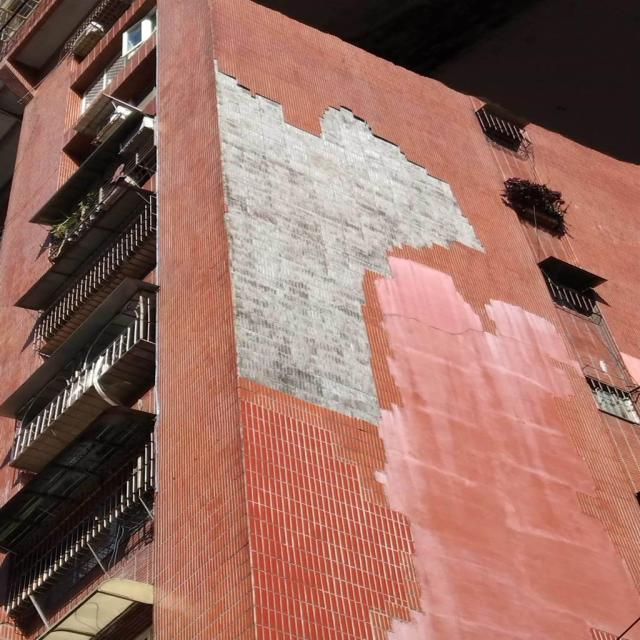tile: (216, 68, 483, 426)
